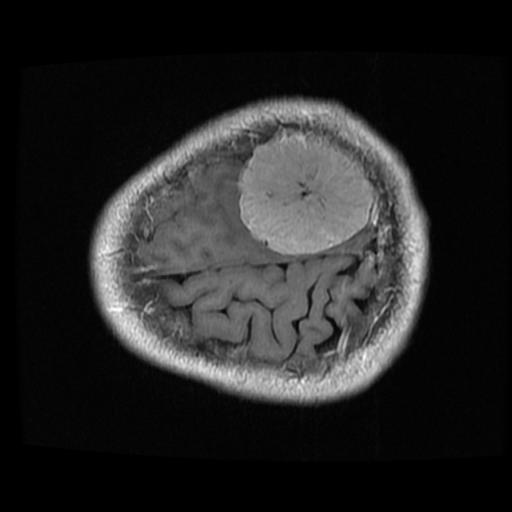meningioma: (237, 129, 372, 254)
